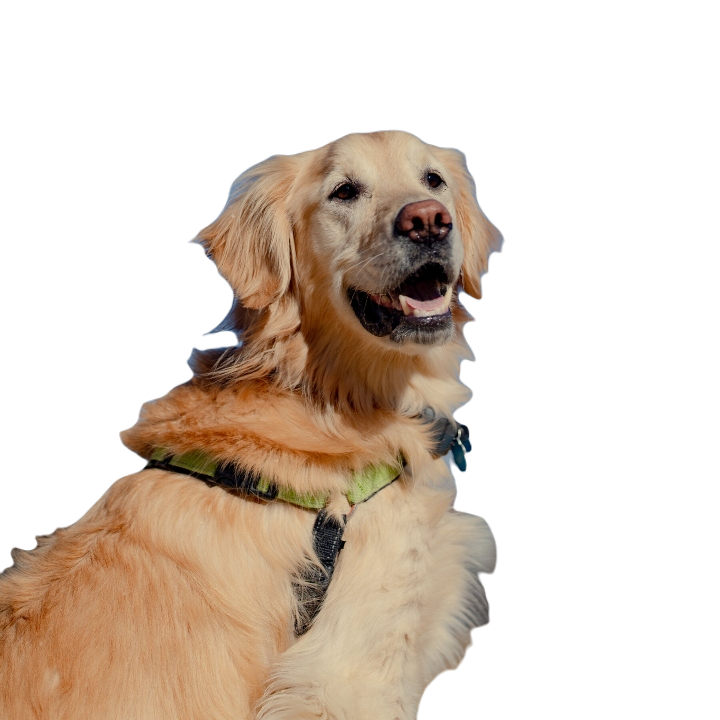Dog: (5, 103, 507, 719)
